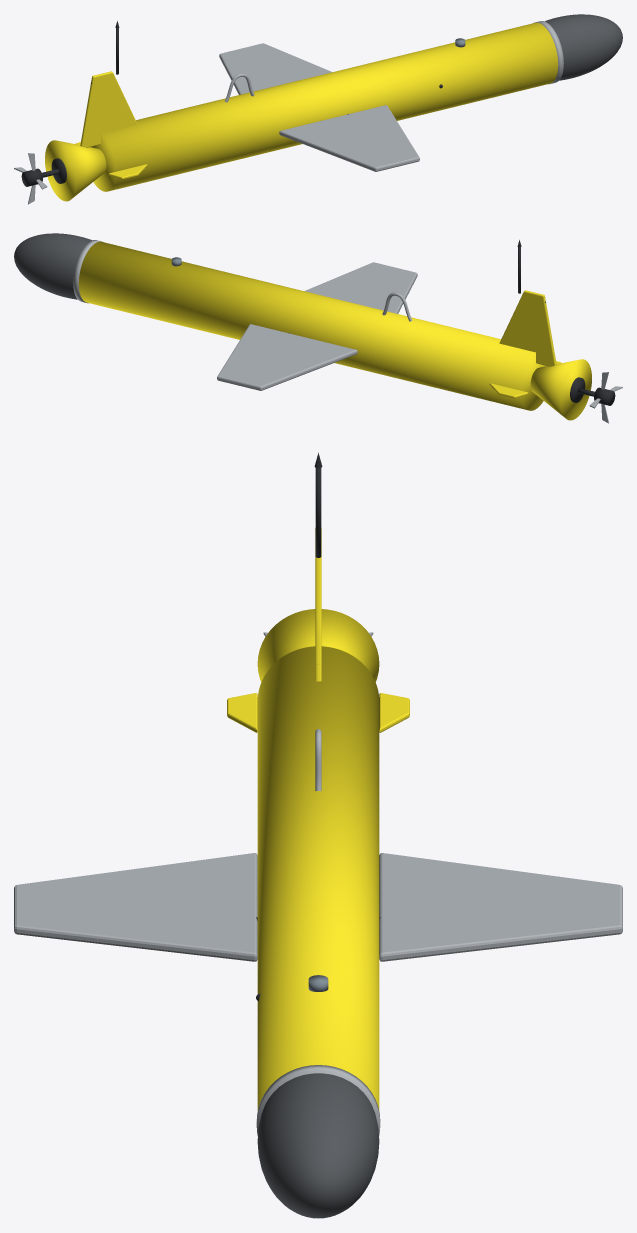
File: glider3.glb
3 views of the same model, one above another, from view 1: azimuth 30°, elevation 25°; view 2: azimuth 150°, elevation 25°; view 3: azimuth 270°, elevation 25° (orthographic). The views are drawn at different scales.
Parts seen in each view (by area): view 1: Hull_Main, Fin_Left, Hull_Nose, Fin_Right, Fin_Top, Hull_Rear, Nose_Cap, Control_Aileron_Left, Propeller_Hub, Rear_Cap; view 2: Hull_Main, Fin_Right, Hull_Nose, Fin_Left, Fin_Top, Hull_Rear, Nose_Cap, Control_Aileron_Right, Propeller_Hub, Rear_Cap; view 3: Hull_Main, Fin_Left, Fin_Right, Hull_Nose, Hull_Rear, Nose_Cap.
Part boxes in pixels (<box>): Hull_Main: <box>90,22,558,191</box>; Fin_Left: <box>279,105,419,171</box>; Hull_Nose: <box>545,14,622,80</box>; Fin_Right: <box>219,43,332,94</box>; Fin_Top: <box>80,71,137,147</box>; Hull_Rear: <box>45,140,106,201</box>; Nose_Cap: <box>533,21,563,84</box>; Control_Aileron_Left: <box>108,164,147,179</box>; Propeller_Hub: <box>21,168,42,186</box>; Rear_Cap: <box>51,158,66,183</box>; Hull_Main: <box>78,241,546,410</box>; Fin_Right: <box>217,324,357,390</box>; Hull_Nose: <box>14,233,91,299</box>; Fin_Left: <box>304,262,417,313</box>; Fin_Top: <box>499,290,556,366</box>; Hull_Rear: <box>530,359,591,420</box>; Nose_Cap: <box>73,240,103,303</box>; Control_Aileron_Right: <box>489,383,528,398</box>; Propeller_Hub: <box>594,387,615,405</box>; Rear_Cap: <box>570,377,585,402</box>; Hull_Main: <box>257,646,379,1110</box>; Fin_Left: <box>14,853,257,961</box>; Fin_Right: <box>379,853,622,961</box>; Hull_Nose: <box>257,1073,379,1218</box>; Hull_Rear: <box>257,609,379,682</box>; Nose_Cap: <box>256,1065,380,1135</box>.
Size of the model in its own units: 2.41 by 0.6406 by 1.1.
